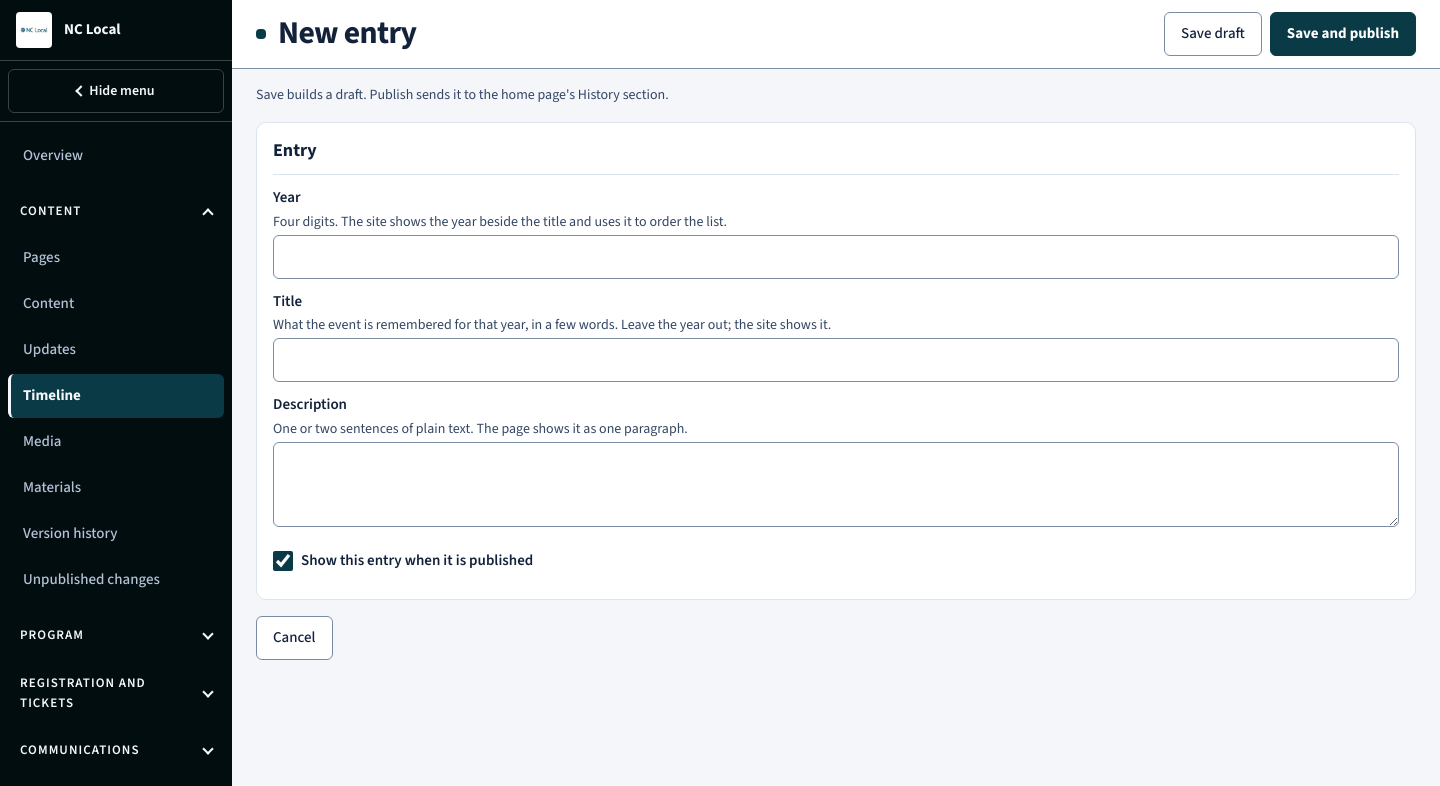
Scenario: the timeline entry editor › answers a save with an invalid field by moving to it, and sends nothing
Expected: the heading "New entry" is shown, [278,15,416,53]
Click the button "Save and publish": [1343, 34] box [1270,12,1416,56]
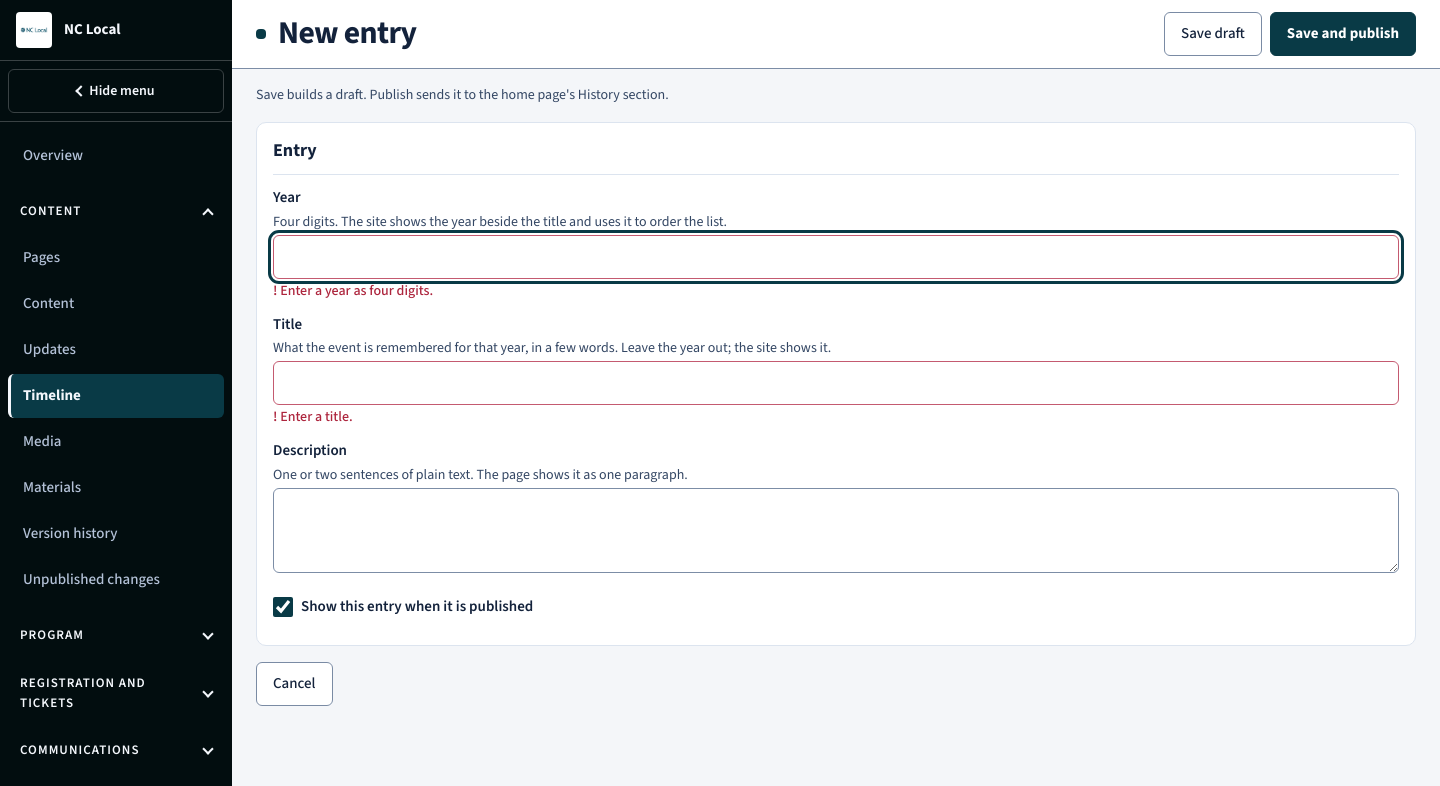
Expected: the text "Enter a year as four digits." is shown, [280,281,433,301]
Expected: the text "Enter a title." is shown, [280,407,353,427]
